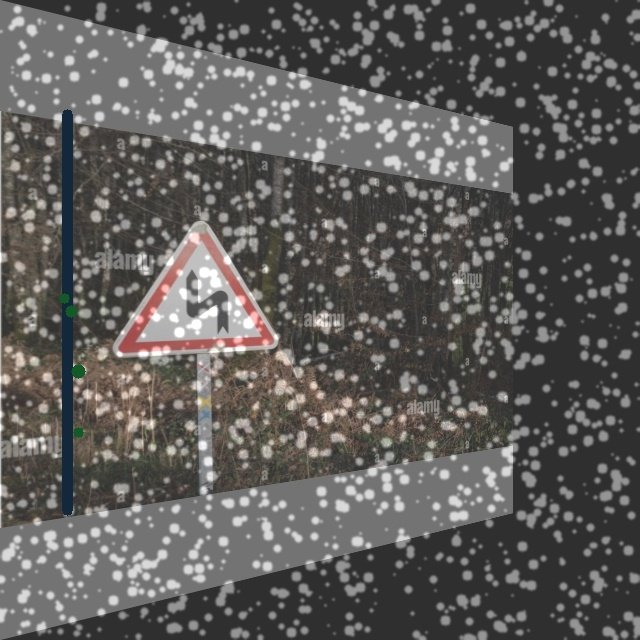Left_Reverse_Bend: (104, 204, 282, 363)
